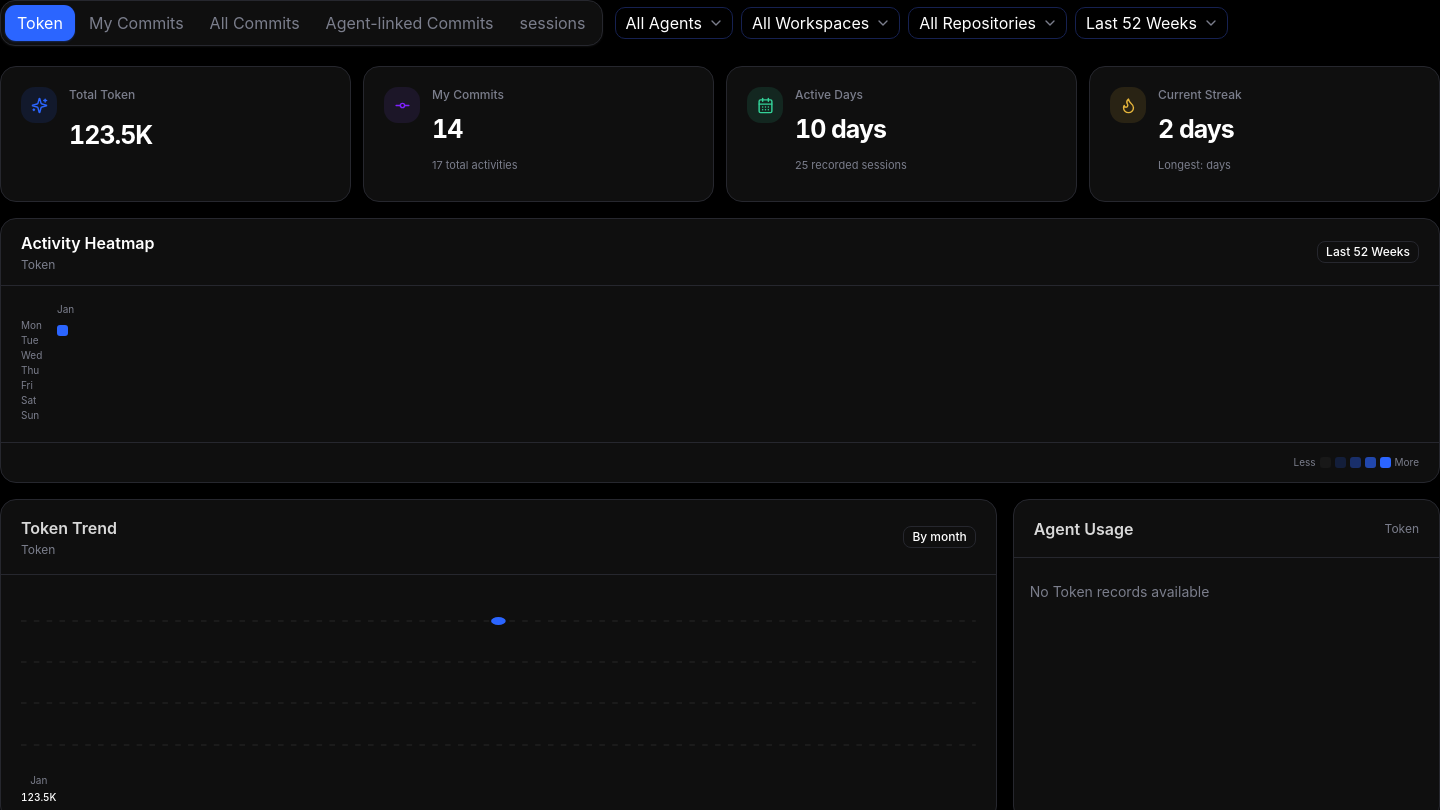
Test case: InsightsPage locale changes › updates heatmap labels and compact numbers while preserving the selected metric
Expected: the text "Mon" is shown, 21,319 -> 42,331
Click the tab "sessions": (552,23) 508,5 -> 598,41
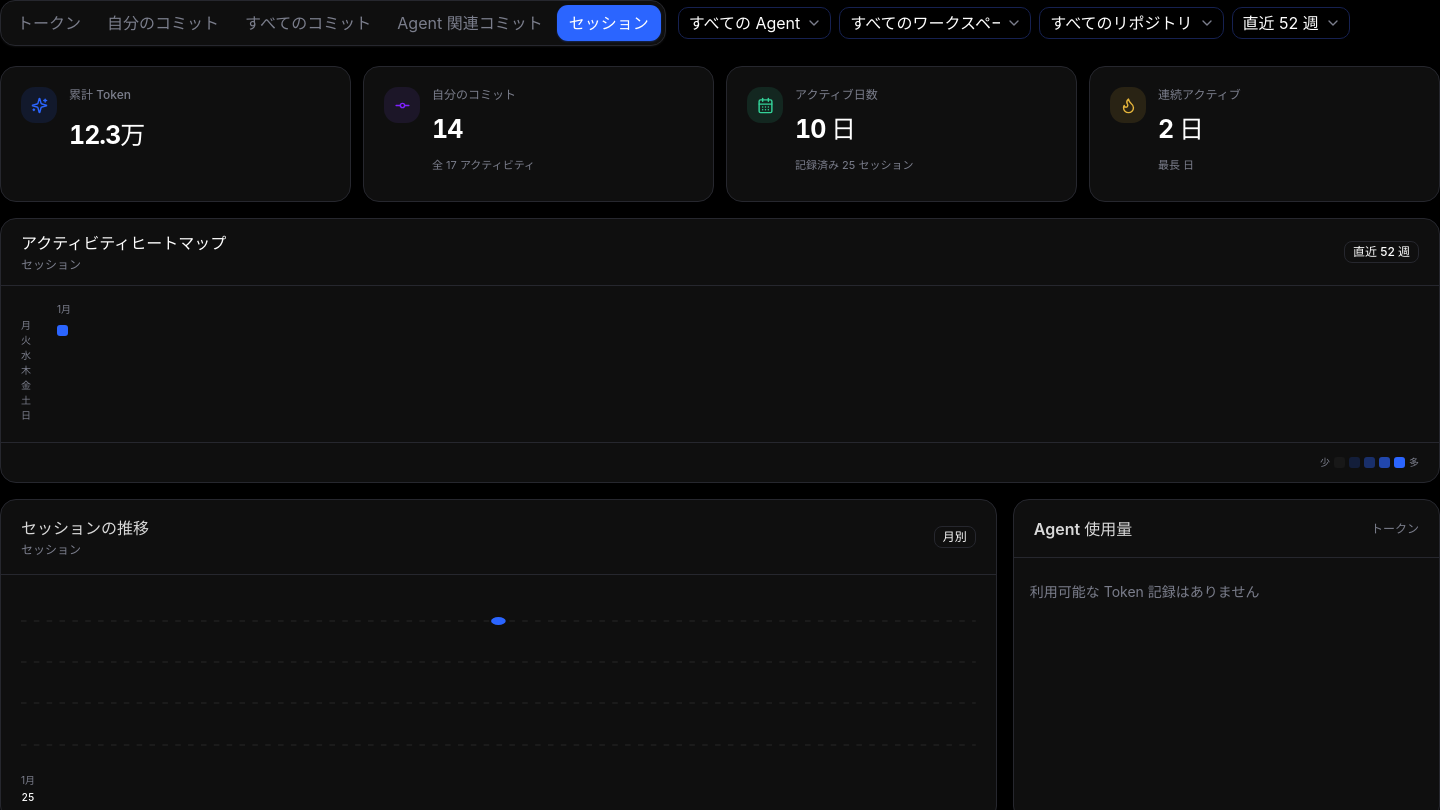
Expected: the text "月" is shown, 21,319 -> 31,331
